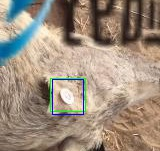text: (50, 78, 85, 111)
